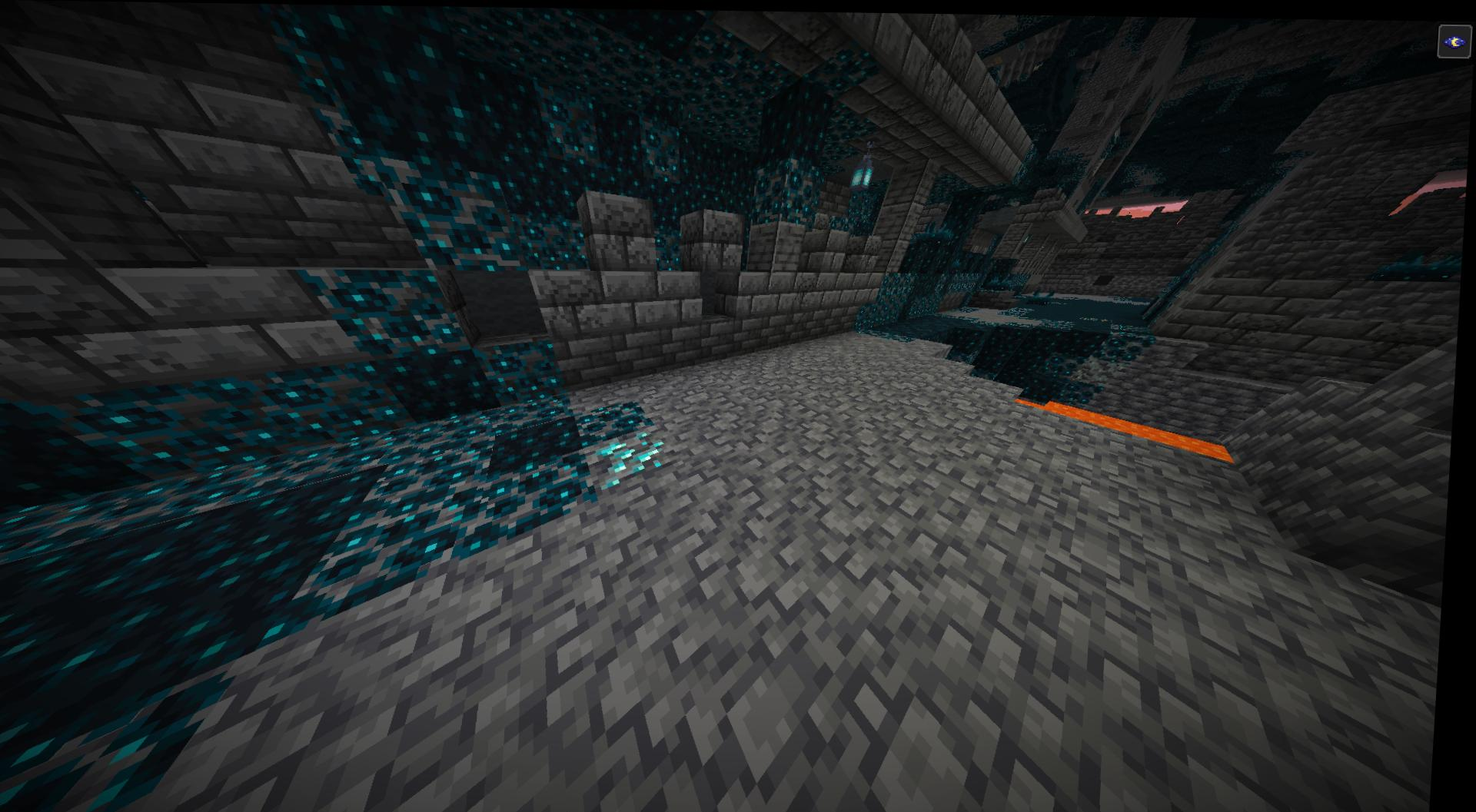diamond ore: (596, 430, 673, 485)
